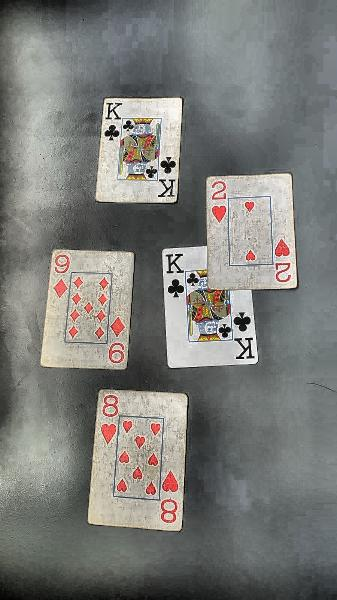2C: (273, 235, 296, 286), (209, 179, 230, 227)
8C: (157, 467, 184, 529), (96, 390, 122, 448)
9D: (106, 314, 129, 367), (50, 251, 72, 300)
KT: (230, 310, 260, 363), (161, 251, 186, 302), (155, 153, 182, 200), (103, 99, 123, 144)
